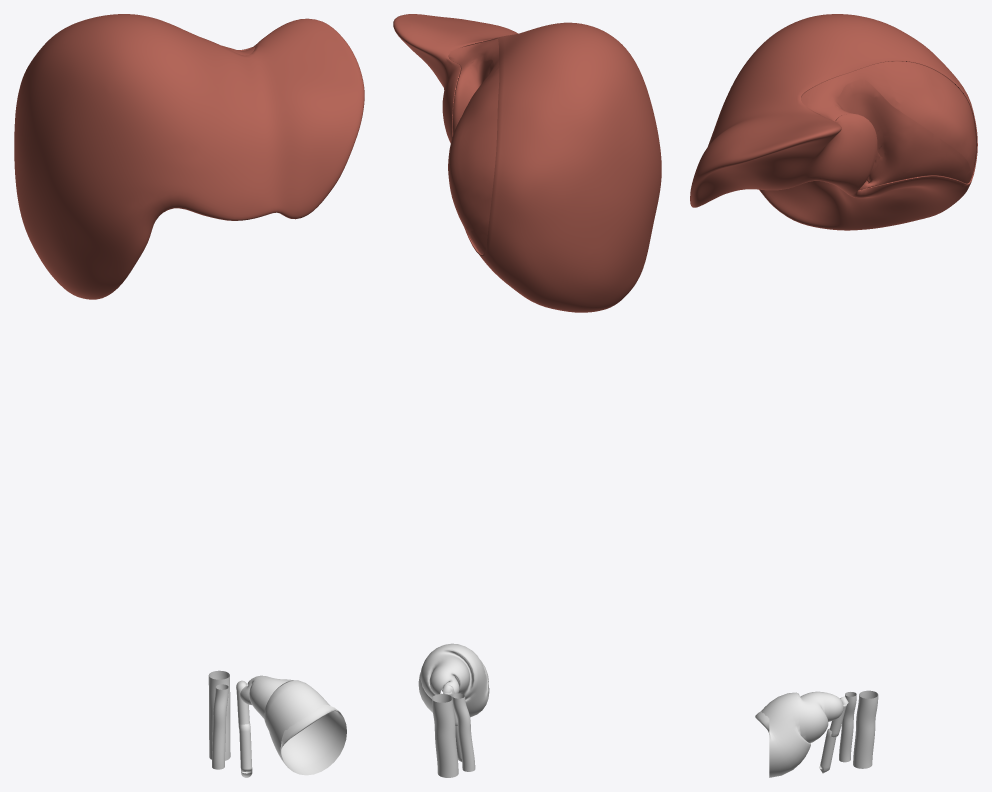
File: Digestive_System.fbx
The picture shows the model from 3 angles, left to right: view 1: azimuth 30°, elevation 25°; view 2: azimuth 150°, elevation 25°; view 3: azimuth 270°, elevation 25°; orthographic projection. The views are drawn at different scales.
Parts seen in each view (by area): view 1: Liver_Right_Lobe, Gallbladder_Bile, Hepatic_Artery, Bile_Duct, Portal_Vein; view 2: Liver_Right_Lobe, Gallbladder_Bile, Portal_Vein, Caudate_Lobe, Hepatic_Artery; view 3: Liver_Right_Lobe, Gallbladder_Bile, Caudate_Lobe, Portal_Vein, Hepatic_Artery, Bile_Duct.
Part boxes in pixels (x1,y1,x2,y2): Liver_Right_Lobe: (14,14,364,299); Gallbladder_Bile: (240,675,346,775); Hepatic_Artery: (212,684,228,769); Bile_Duct: (236,680,252,777); Portal_Vein: (208,670,230,760); Liver_Right_Lobe: (393,14,661,312); Gallbladder_Bile: (418,643,489,717); Portal_Vein: (432,694,458,777); Caudate_Lobe: (448,42,499,110); Hepatic_Artery: (452,693,475,771); Liver_Right_Lobe: (690,14,977,230); Gallbladder_Bile: (755,691,843,777); Caudate_Lobe: (808,65,903,190); Portal_Vein: (853,690,878,768); Hepatic_Artery: (839,692,856,762); Bile_Duct: (819,696,848,773).
Size of the model in its own units: 19.14 by 52.4 by 19.39.
